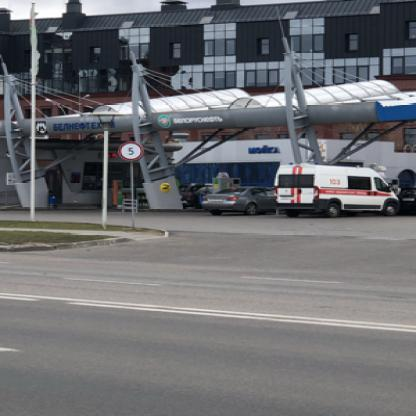speedlimit: (116, 140, 142, 160)
